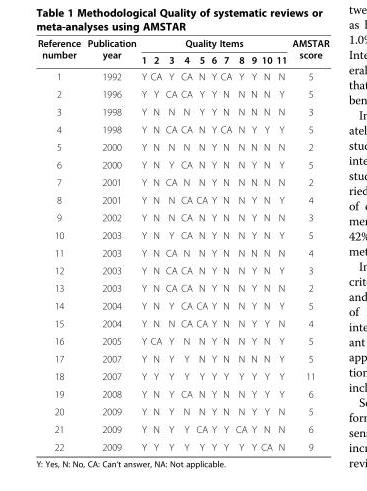table: (36, 37, 328, 452)
table column: (83, 37, 138, 452), (36, 37, 83, 452), (288, 37, 328, 452), (147, 37, 163, 452), (217, 37, 233, 452), (163, 37, 178, 452), (178, 37, 193, 452), (193, 37, 208, 452), (233, 37, 248, 452), (258, 37, 273, 452), (273, 37, 288, 452), (248, 37, 258, 452), (138, 37, 147, 452), (208, 37, 217, 452)
table column header: (36, 37, 328, 67)
table row: (36, 84, 328, 102), (36, 102, 328, 120), (36, 137, 328, 155), (36, 155, 328, 173), (36, 190, 328, 208), (36, 208, 328, 226), (36, 243, 328, 261), (36, 278, 328, 296), (36, 296, 328, 314), (36, 331, 328, 349), (36, 349, 328, 367), (36, 384, 328, 402), (36, 402, 328, 420), (36, 67, 328, 84), (36, 120, 328, 137), (36, 173, 328, 190), (36, 226, 328, 243), (36, 261, 328, 278), (36, 314, 328, 331), (36, 367, 328, 384), (36, 420, 328, 437), (36, 51, 328, 67), (36, 437, 328, 452), (36, 37, 328, 51)
table spanning cell: (138, 37, 288, 51), (83, 37, 138, 67), (36, 37, 83, 67), (288, 37, 328, 67)
